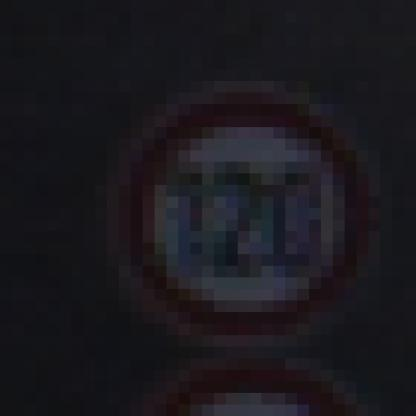Speed Limit 120: (129, 94, 364, 338)
